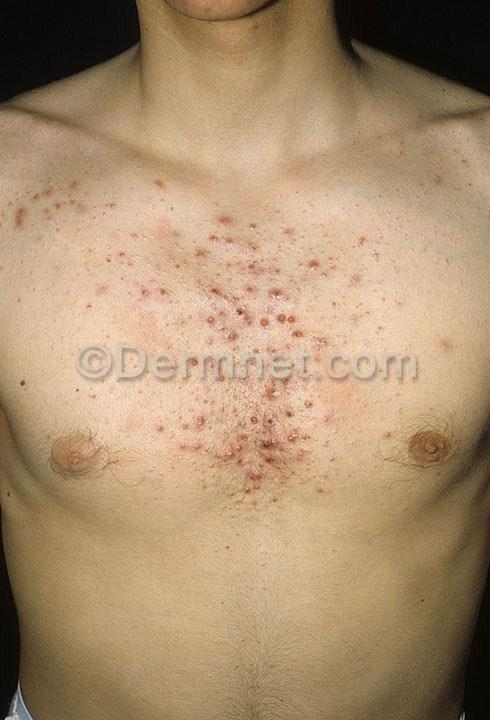Acne: (207, 413, 314, 501), (279, 253, 322, 392), (193, 219, 269, 292), (193, 289, 278, 352), (11, 189, 104, 226)
